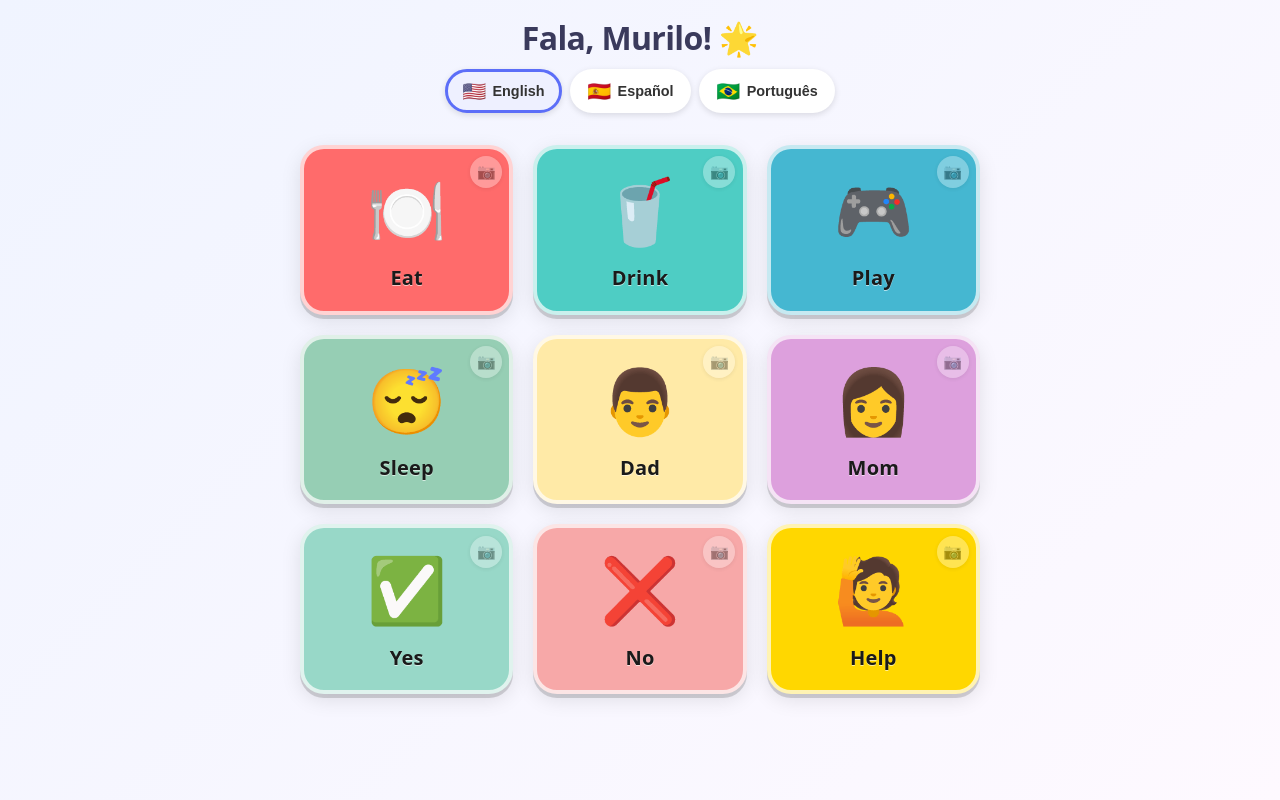
Test case: CommunicationBoard › switches language and re-renders card labels
The width and height of the screenshot is (1280, 800).
Click the button "🇧🇷 Português": x=767, y=91 top-left (699, 69), bottom-right (835, 113)
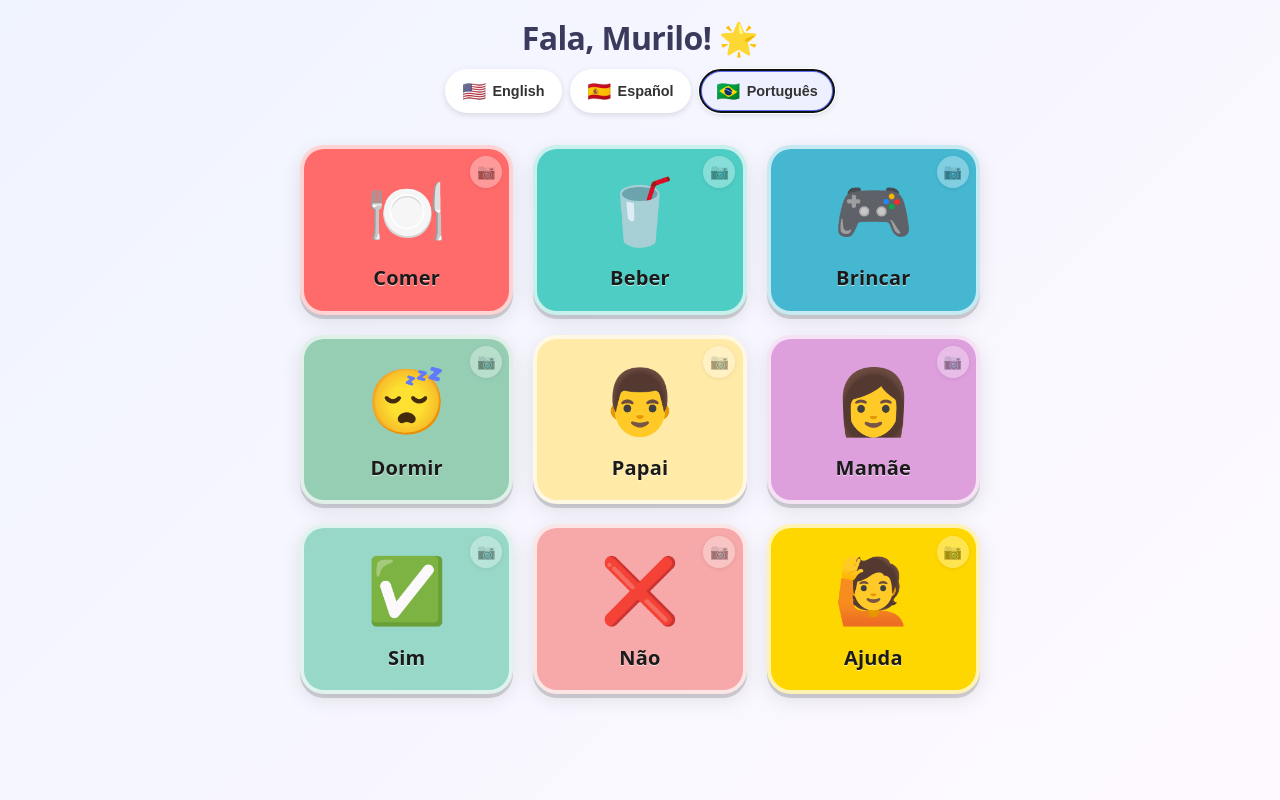
Now the button with aria-label "Comer, tap to speak" is shown, box top-left (300, 145), bottom-right (513, 315)
